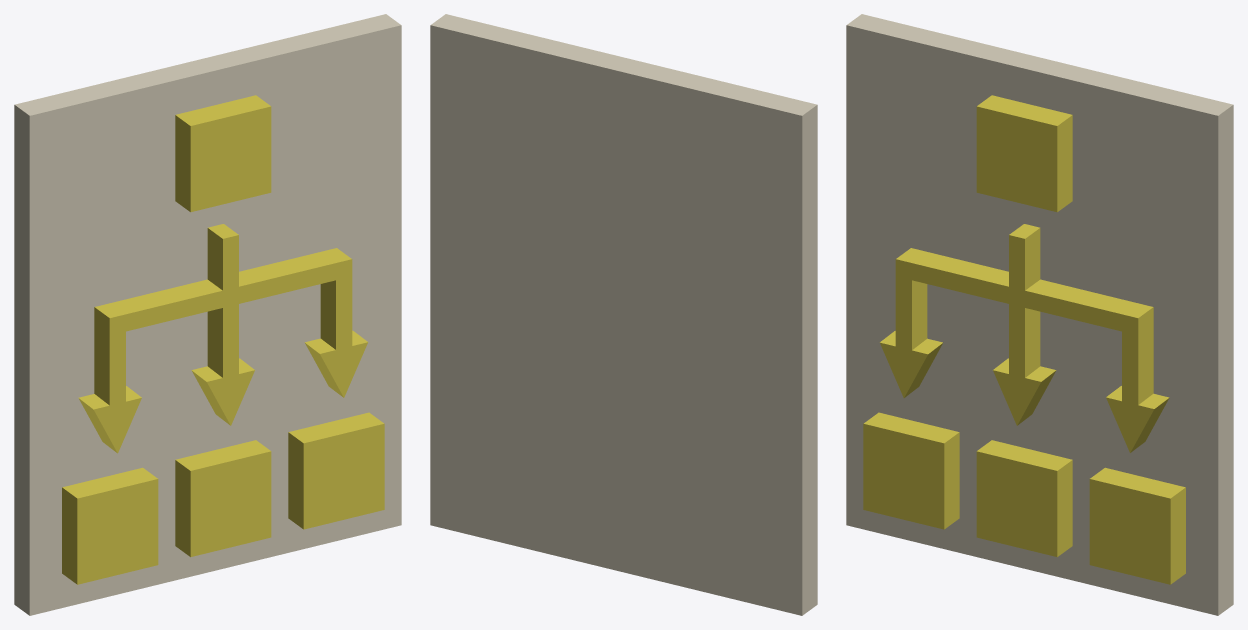
The model's file is loadbalancer.glb.
3 renders of one model, left to right at view 1: azimuth 30°, elevation 25°; view 2: azimuth 150°, elevation 25°; view 3: azimuth 330°, elevation 25°, orthographic.
Parts seen in each view (by area): view 1: Mesh_Mesh_head_geo.001_lambert2SG.001; view 2: Mesh_Mesh_head_geo.001_lambert2SG.001; view 3: Mesh_Mesh_head_geo.001_lambert2SG.001.
Part boxes in pixels (bbox=[...]): Mesh_Mesh_head_geo.001_lambert2SG.001: bbox=[14, 14, 401, 615]; Mesh_Mesh_head_geo.001_lambert2SG.001: bbox=[430, 14, 817, 615]; Mesh_Mesh_head_geo.001_lambert2SG.001: bbox=[846, 14, 1233, 615].
Bounding box in the file's own units: 28 × 36 × 4.
